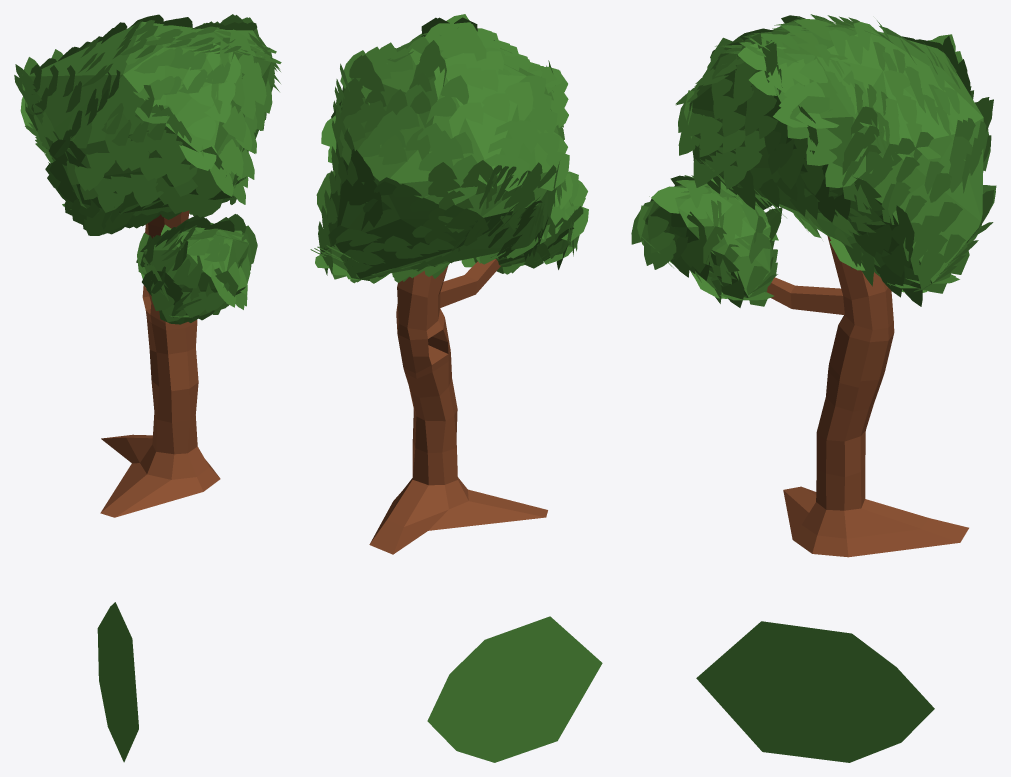
File: tree2.2.glb
The picture shows the model from 3 angles, left to right: view 1: azimuth 30°, elevation 25°; view 2: azimuth 150°, elevation 25°; view 3: azimuth 270°, elevation 25°; orthographic projection. The views are drawn at different scales.
Parts seen in each view (by area): view 1: foliage.002, Cylinder.002, particle.001 (×8); view 2: particle.001 (×7), Cylinder.002, foliage.002; view 3: particle.001 (×6), Cylinder.002, foliage.002.
Boxes of the visible parts, x1,y1,x2,y2 form: foliage.002: [25, 21, 271, 299]; Cylinder.002: [100, 210, 220, 517]; particle.001 (×8): [48, 30, 252, 762]; particle.001 (×7): [427, 64, 602, 762]; Cylinder.002: [369, 259, 547, 554]; foliage.002: [320, 35, 573, 278]; particle.001 (×6): [679, 57, 969, 762]; Cylinder.002: [767, 236, 968, 557]; foliage.002: [645, 19, 983, 297].
Bounding box in the file's own units: 2.28 × 6.84 × 2.93.
Materials: 1 (1 with a texture image).
